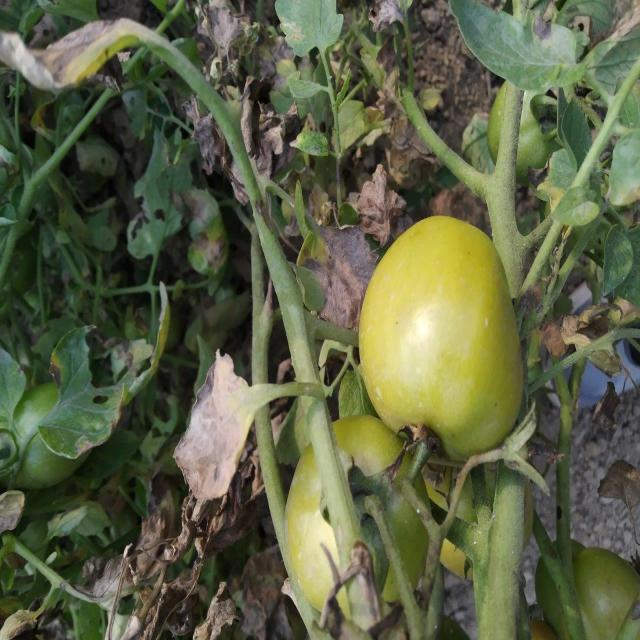Unripe: (358, 215, 524, 463)
